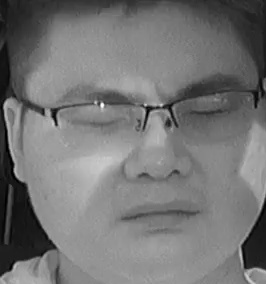blink: (76, 114, 125, 131), (186, 105, 225, 118)
glass: (54, 99, 149, 154), (170, 92, 256, 140)
mouth: (118, 199, 201, 235)
